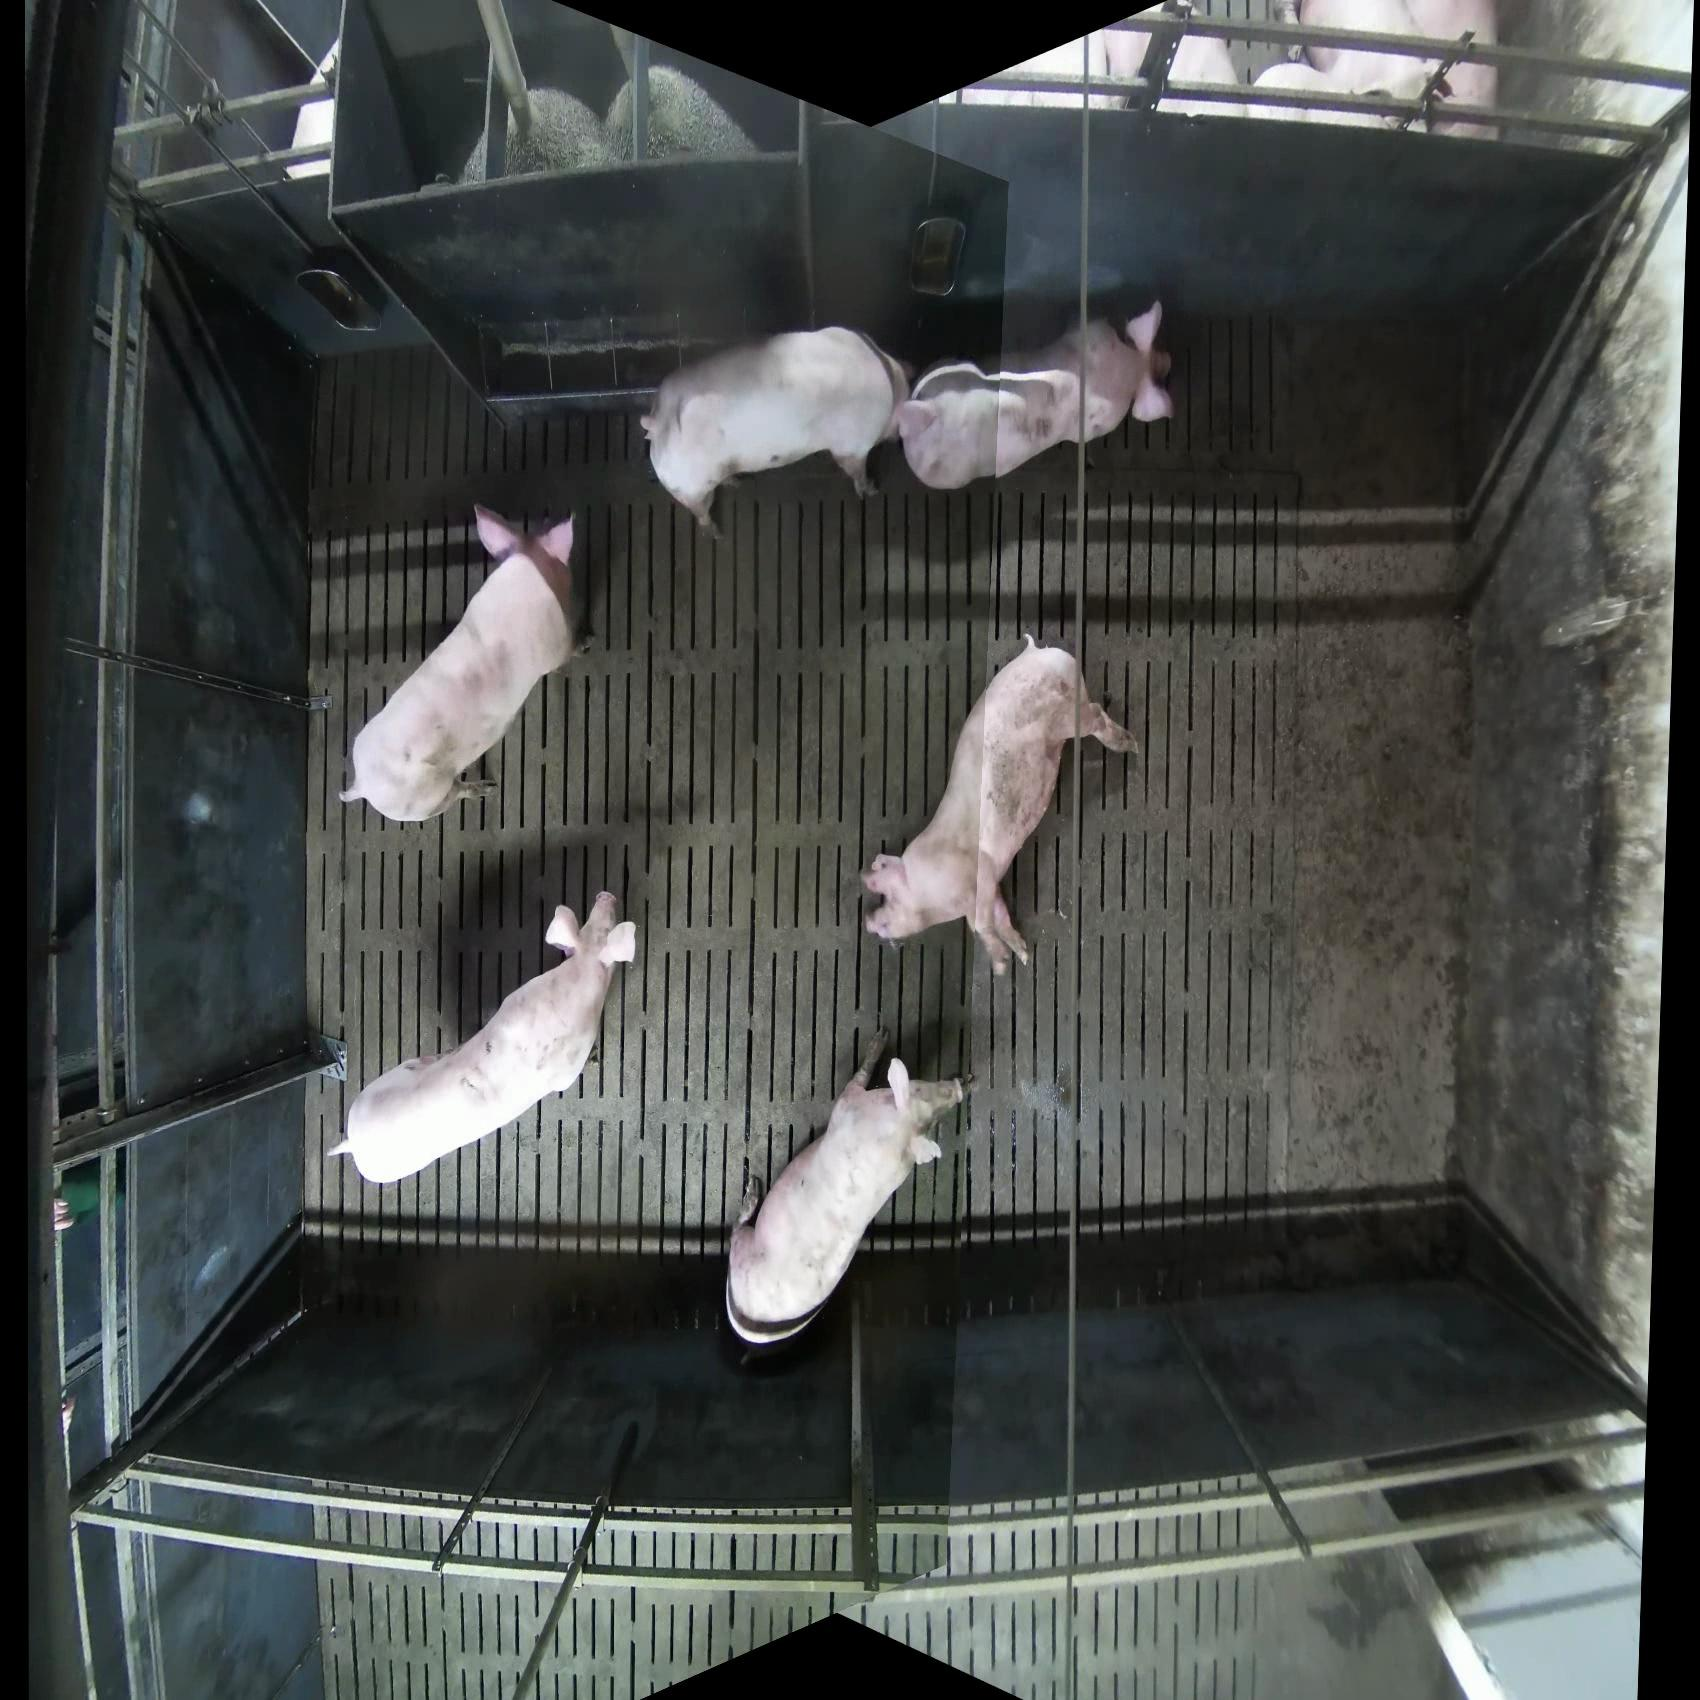pig: (858, 632, 1140, 978), (325, 889, 638, 1186), (336, 501, 581, 828), (722, 1038, 970, 1348), (638, 322, 912, 539), (894, 299, 1175, 490), (1250, 2, 1501, 139), (1099, 12, 1247, 118), (286, 37, 342, 184)
